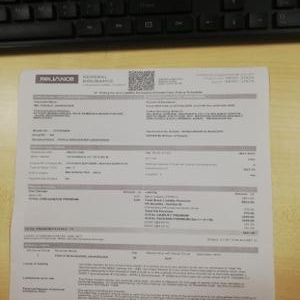image: (34, 73, 82, 87)
text: (20, 248, 257, 300), (26, 189, 257, 231), (29, 102, 245, 144), (27, 146, 256, 184), (23, 232, 256, 247), (194, 70, 257, 86)
